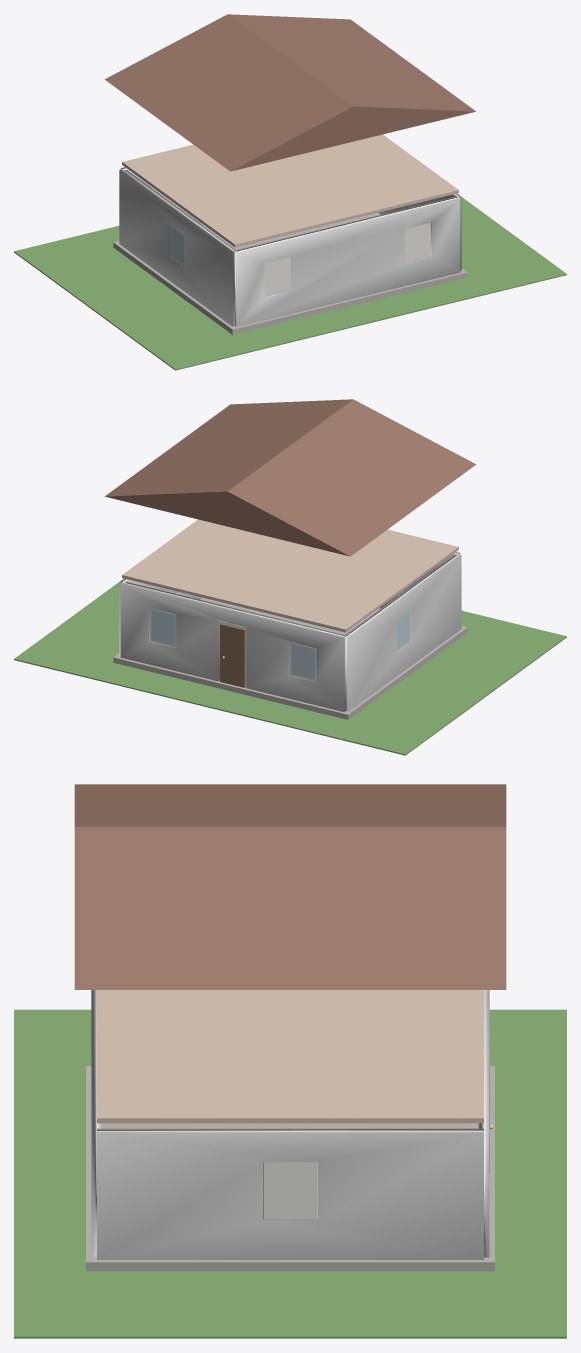
The model's file is house_victorian.glb.
The picture shows the model from 3 angles, top to bottom: view 1: azimuth 30°, elevation 25°; view 2: azimuth 150°, elevation 25°; view 3: azimuth 270°, elevation 25°; orthographic projection. The views are drawn at different scales.
Parts seen in each view (by area): view 1: roof, lawn, floor_uf, back_gf, left_gf, foundation, frame (×3), floor_gf; view 2: roof, lawn, floor_uf, front_gf, left_gf, foundation, frame (×3), glass (×2), panel, floor_gf; view 3: roof, lawn, floor_uf, right_gf, foundation, frame, floor_gf, front_gf, back_gf.
Part boxes in pixels (box(x1,y1,x2,y2)): roof: box(105, 14, 475, 171); lawn: box(14, 197, 566, 370); floor_uf: box(122, 134, 458, 247); back_gf: box(234, 197, 460, 326); left_gf: box(119, 169, 237, 326); foundation: box(113, 241, 467, 334); frame (×3): box(170, 222, 430, 296); floor_gf: box(200, 213, 380, 249); roof: box(105, 399, 475, 556); lawn: box(14, 582, 566, 755); floor_uf: box(122, 519, 458, 632); front_gf: box(120, 582, 346, 711); left_gf: box(343, 554, 461, 711); foundation: box(113, 626, 467, 719); frame (×3): box(150, 607, 410, 681); glass (×2): box(151, 609, 315, 679); panel: box(220, 623, 245, 687); floor_gf: box(200, 598, 380, 634); roof: box(74, 784, 506, 989); lawn: box(14, 1009, 566, 1338); floor_uf: box(97, 990, 483, 1123); right_gf: box(97, 1128, 483, 1259); foundation: box(86, 1066, 494, 1271); frame: box(263, 1162, 317, 1220); floor_gf: box(102, 1123, 478, 1128); front_gf: box(478, 990, 489, 1257); back_gf: box(91, 990, 102, 1257).
Size of the model in its own units: 14 by 6.95 by 10.
